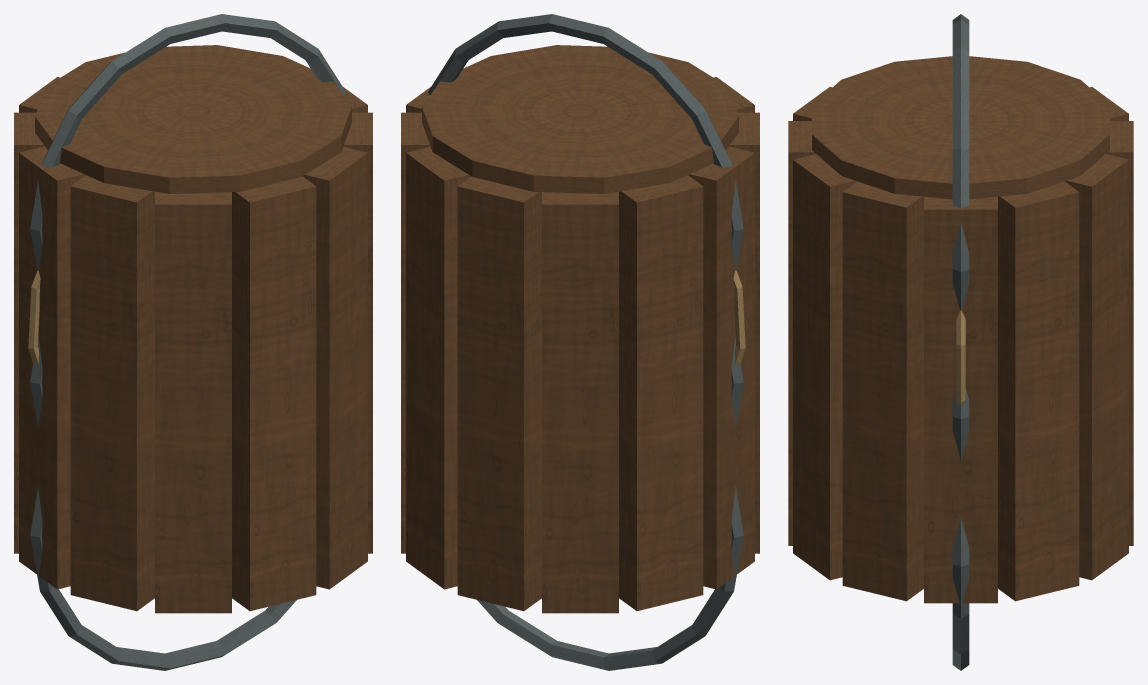
Rendered from en-003_barrel_container_wreckage__closed.obj.
The picture shows the model from 3 angles, left to right: view 1: azimuth 30°, elevation 25°; view 2: azimuth 150°, elevation 25°; view 3: azimuth 270°, elevation 25°; orthographic projection. The views are drawn at different scales.
Parts seen in each view (by area): view 1: en-003_barrel_container_wreckage__closed; view 2: en-003_barrel_container_wreckage__closed; view 3: en-003_barrel_container_wreckage__closed.
Part boxes in pixels (x1=…): en-003_barrel_container_wreckage__closed: x1=14, y1=14, x2=372, y2=670; en-003_barrel_container_wreckage__closed: x1=401, y1=14, x2=759, y2=670; en-003_barrel_container_wreckage__closed: x1=788, y1=14, x2=1133, y2=670.
Size of the model in its own units: 0.7444 by 1.38 by 0.7.
Materials: 3 (3 with a texture image).
